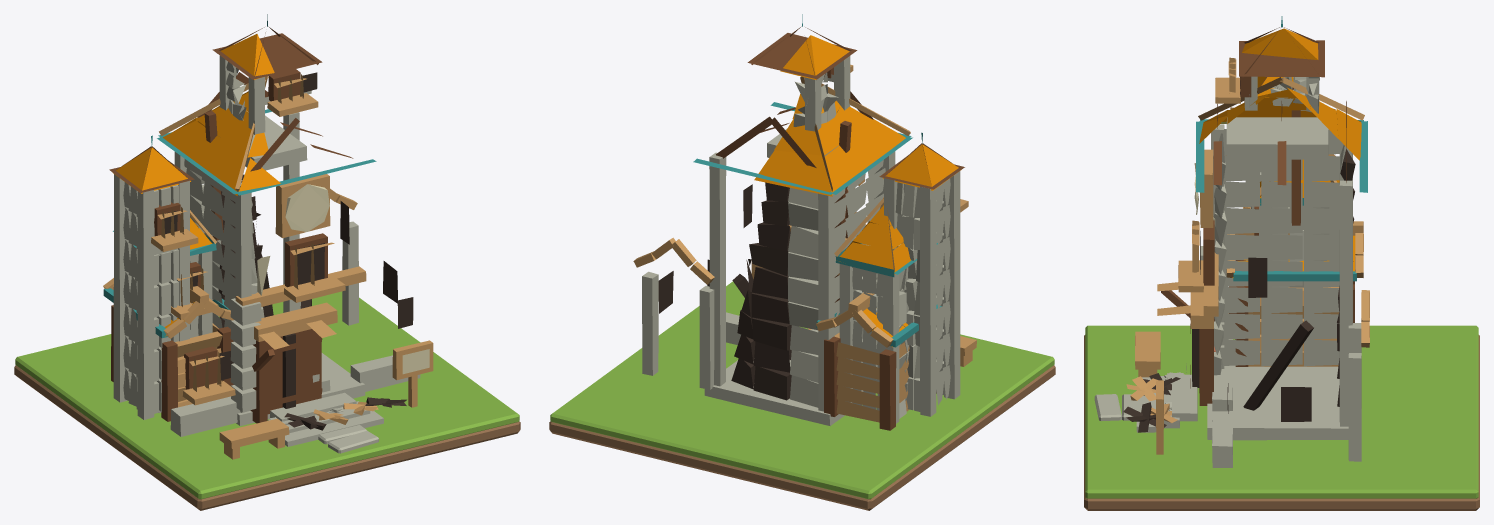
The model's file is town_hall_l08_damaged_LOD2.glb.
The picture shows the model from 3 angles, left to right: view 1: azimuth 30°, elevation 25°; view 2: azimuth 150°, elevation 25°; view 3: azimuth 270°, elevation 25°; orthographic projection. The views are drawn at different scales.
Visible parts, largest first — view 1: town_hall_l08_damaged_foundation.001, town_hall_l08_damaged_grass_tile.001, town_hall_l08_damaged_earth_tile.001, town_hall_l08_damaged_path_stone.005; view 2: town_hall_l08_damaged_foundation.001, town_hall_l08_damaged_grass_tile.001, town_hall_l08_damaged_earth_tile.001; view 3: town_hall_l08_damaged_foundation.001, town_hall_l08_damaged_grass_tile.001, town_hall_l08_damaged_earth_tile.001, town_hall_l08_damaged_path_stone.005.
Part boxes in pixels (x1,y1,x2,y2): town_hall_l08_damaged_foundation.001: (103, 14, 433, 459); town_hall_l08_damaged_grass_tile.001: (15, 291, 519, 499); town_hall_l08_damaged_earth_tile.001: (14, 365, 520, 510); town_hall_l08_damaged_path_stone.005: (328, 431, 378, 453); town_hall_l08_damaged_foundation.001: (633, 14, 976, 430); town_hall_l08_damaged_grass_tile.001: (550, 281, 1054, 499); town_hall_l08_damaged_earth_tile.001: (549, 365, 1055, 510); town_hall_l08_damaged_foundation.001: (1123, 16, 1369, 467); town_hall_l08_damaged_grass_tile.001: (1085, 325, 1478, 498); town_hall_l08_damaged_earth_tile.001: (1084, 335, 1479, 510); town_hall_l08_damaged_path_stone.005: (1094, 394, 1121, 421).
Bounding box in the file's own units: 3.6 × 4.16 × 3.6.
